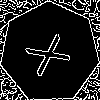X: (25, 27, 80, 78)
